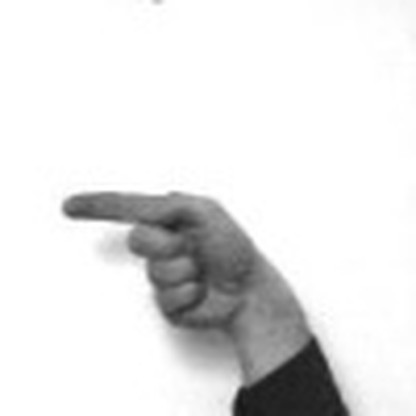g: (56, 182, 255, 333)
